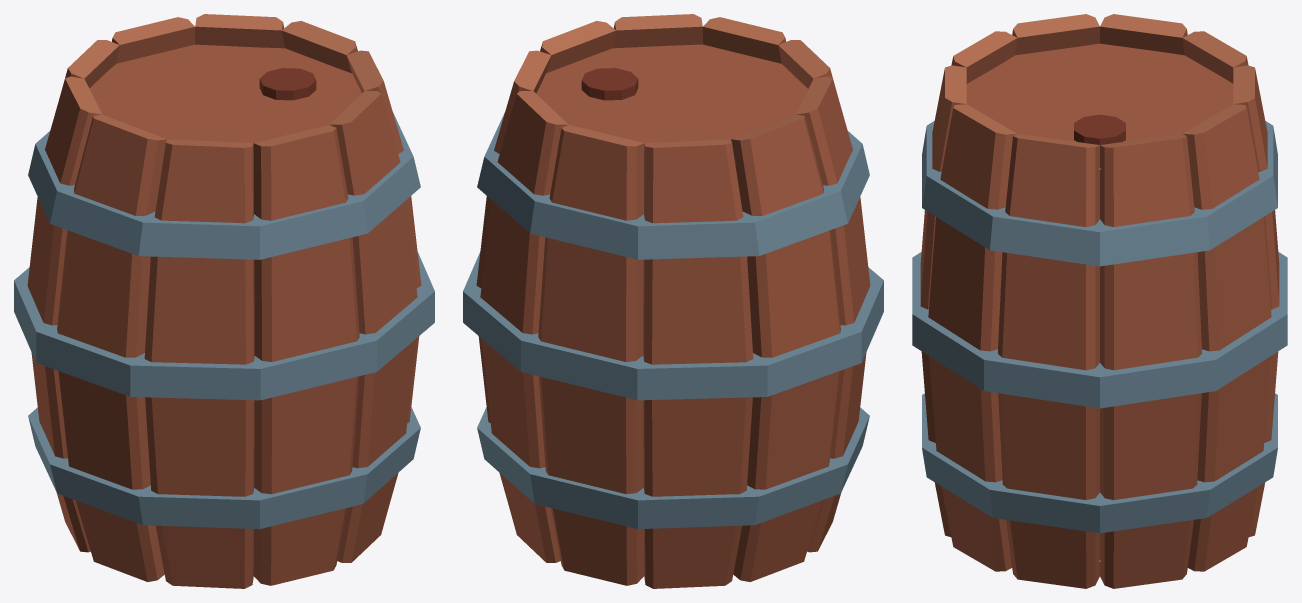
The model's file is Barrel.fbx.
3 renders of one model, left to right at view 1: azimuth 30°, elevation 25°; view 2: azimuth 150°, elevation 25°; view 3: azimuth 270°, elevation 25°, orthographic.
Visible parts, largest first — view 1: Barrel; view 2: Barrel; view 3: Barrel.
Boxes of the visible parts, x1,y1,x2,y2 form: Barrel: [14, 14, 434, 588]; Barrel: [463, 14, 883, 588]; Barrel: [912, 14, 1287, 588].
Bounding box in the file's own units: 0.8886 × 0.7707 × 1.
